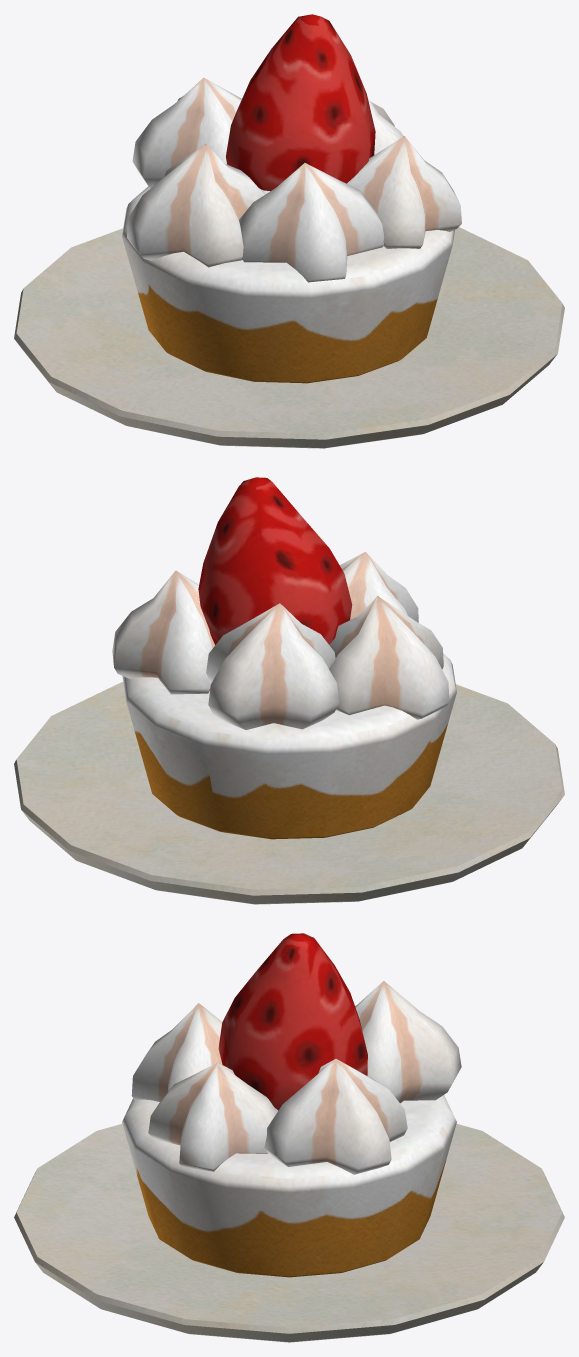
The model's file is Cake.fbx.
The picture shows the model from 3 angles, top to bottom: view 1: azimuth 30°, elevation 25°; view 2: azimuth 150°, elevation 25°; view 3: azimuth 270°, elevation 25°; orthographic projection.
Parts seen in each view (by area): view 1: cake00__Cake01; view 2: cake00__Cake01; view 3: cake00__Cake01.
Boxes of the visible parts, <box> form: cake00__Cake01: <box>14,14,564,448</box>; cake00__Cake01: <box>14,477,564,904</box>; cake00__Cake01: <box>14,933,564,1342</box>.
Size of the model in its own units: 138 by 86.12 by 138.
Materials: 2 (2 with a texture image).
